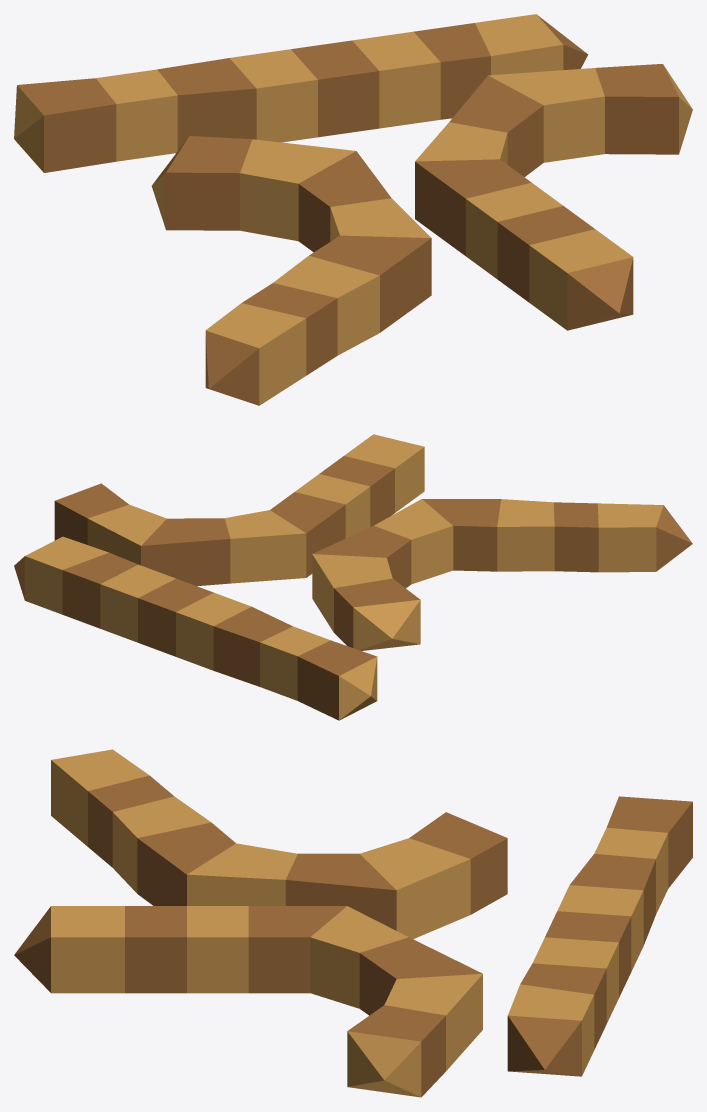
The model's file is inv_spicy_worm.obj.
The picture shows the model from 3 angles, top to bottom: view 1: azimuth 30°, elevation 25°; view 2: azimuth 150°, elevation 25°; view 3: azimuth 270°, elevation 25°; orthographic projection. The views are drawn at different scales.
Bounding box in the file's own units: 0.4609 × 0.0391 × 0.4297.
